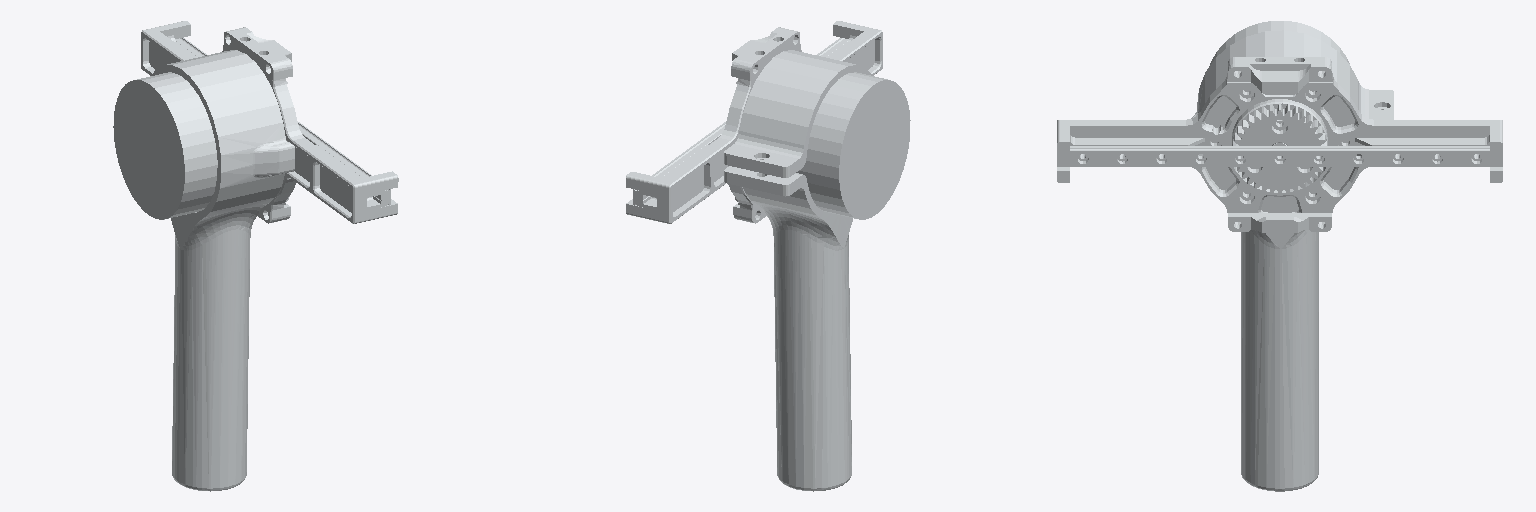
The robot description file, URDF, robot "y1_description":
<?xml version="1.0" encoding="utf-8"?>
<!-- This URDF was automatically created by SolidWorks to URDF Exporter! Originally created by [author] ([email redacted]) 
     Commit Version: 1.6.0-4-g7f85cfe  Build Version: 1.6.7995.38578
     For more information, please see http://wiki.ros.org/sw_urdf_exporter -->
<robot
  name="y1_description">
  <link name="world" />
  <joint name="fixed_base_joint" type="fixed">
      <parent link="world" />
      <child link="base_link" />
  </joint>
  <link
    name="base_link">
    <inertial>
      <origin
        xyz="-0.00594885814133117 1.74815920781197E-07 0.0348007672592276"
        rpy="0 0 0" />
      <mass
        value="0.710539568297307" />
      <inertia
        ixx="0.000443657464008301"
        ixy="6.25566859542462E-08"
        ixz="9.59870028750112E-07"
        iyy="0.000441077995533288"
        iyz="-9.9725911250569E-09"
        izz="0.000508211347165629" />
    </inertial>
    <visual>
      <origin
        xyz="0 0 0"
        rpy="0 0 0" />
      <geometry>
        <mesh
          filename="package://y1_description/meshes2/base_link.STL" />
      </geometry>
      <material
        name="">
        <color
          rgba="1 1 1 1" />
      </material>
    </visual>
    <collision>
      <origin
        xyz="0 0 0"
        rpy="0 0 0" />
      <geometry>
        <mesh
          filename="package://y1_description/meshes2/base_link.STL" />
      </geometry>
    </collision>
  </link>
  <link
    name="link1">
    <inertial>
      <origin
        xyz="0.000681166801672072 -0.000462329144553357 0.045774892481422"
        rpy="0 0 0" />
      <mass
        value="0.465086237348566" />
      <inertia
        ixx="0.000229226849289421"
        ixy="6.51443398285823E-09"
        ixz="4.13823216869872E-08"
        iyy="0.000349392243512686"
        iyz="4.09909327547663E-06"
        izz="0.000228246849171451" />
    </inertial>
    <visual>
      <origin
        xyz="0 0 0"
        rpy="0 0 0" />
      <geometry>
        <mesh
          filename="package://y1_description/meshes2/link1.STL" />
      </geometry>
      <material
        name="">
        <color
          rgba="0.898039215686275 0.917647058823529 0.929411764705882 1" />
      </material>
    </visual>
    <collision>
      <origin
        xyz="0 0 0"
        rpy="0 0 0" />
      <geometry>
        <mesh
          filename="package://y1_description/meshes2/link1.STL" />
      </geometry>
    </collision>
  </link>
  <joint
    name="joint1"
    type="revolute">
    <origin
      xyz="0 0 0.06675"
      rpy="0 0 0" />
    <parent
      link="base_link" />
    <child
      link="link1" />
    <axis
      xyz="0 0 1" />
    <limit
      lower="-2.79"
      upper="2.79"
      effort="30"
      velocity="5" />
  </joint>
  <link
    name="link2">
    <inertial>
      <origin
        xyz="-0.188833638735521 -0.00103696741234357 -0.000652233492404069"
        rpy="0 0 0" />
      <mass
        value="1.00848298285328" />
      <inertia
        ixx="0.000410794334923653"
        ixy="-8.40217264906029E-05"
        ixz="8.54409117485555E-06"
        iyy="0.00604170923770196"
        iyz="-2.44381206367219E-07"
        izz="0.00611040782192728" />
    </inertial>
    <visual>
      <origin
        xyz="0 0 0"
        rpy="0 0 0" />
      <geometry>
        <mesh
          filename="package://y1_description/meshes2/link2.STL" />
      </geometry>
      <material
        name="">
        <color
          rgba="0.898039215686275 0.917647058823529 0.929411764705882 1" />
      </material>
    </visual>
    <collision>
      <origin
        xyz="0 0 0"
        rpy="0 0 0" />
      <geometry>
        <mesh
          filename="package://y1_description/meshes2/link2.STL" />
      </geometry>
    </collision>
  </link>
  <joint
    name="joint2"
    type="revolute">
    <origin
      xyz="0.00075 0 0.055"
      rpy="1.5707963267949 0 0" />
    <parent
      link="link1" />
    <child
      link="link2" />
    <axis
      xyz="0 0 1" />
    <limit
      lower="-3.14"
      upper="0"
      effort="100"
      velocity="5" />
  </joint>
  <link
    name="link3">
    <inertial>
      <origin
        xyz="0.13303236944819 0.053001605443094 0.000290607418881382"
        rpy="0 0 0" />
      <mass
        value="0.839664048562432" />
      <inertia
        ixx="0.000602602150085638"
        ixy="0.000475019647951162"
        ixz="4.78547835289741E-06"
        iyy="0.00179992027506354"
        iyz="2.90178948383024E-06"
        izz="0.00208247690030194" />
    </inertial>
    <visual>
      <origin
        xyz="0 0 0"
        rpy="0 0 0" />
      <geometry>
        <mesh
          filename="package://y1_description/meshes2/link3.STL" />
      </geometry>
      <material
        name="">
        <color
          rgba="0.898039215686275 0.917647058823529 0.929411764705882 1" />
      </material>
    </visual>
    <collision>
      <origin
        xyz="0 0 0"
        rpy="0 0 0" />
      <geometry>
        <mesh
          filename="package://y1_description/meshes2/link3.STL" />
      </geometry>
    </collision>
  </link>
  <joint
    name="joint3"
    type="revolute">
    <origin
      xyz="-0.28 0 0"
      rpy="0 0 0" />
    <parent
      link="link2" />
    <child
      link="link3" />
    <axis
      xyz="0 0 1" />
    <limit
      lower="0"
      upper="3.14"
      effort="30"
      velocity="5" />
  </joint>
  <link
    name="link4">
    <inertial>
      <origin
        xyz="0.0676553454608046 0.0601804606336394 0.00493164046961679"
        rpy="0 0 0" />
      <mass
        value="0.455192807281481" />
      <inertia
        ixx="0.000175905701610462"
        ixy="2.09881793084199E-05"
        ixz="-5.70112881813548E-06"
        iyy="0.00021185619989683"
        iyz="-5.28404240592637E-06"
        izz="0.000207766320080551" />
    </inertial>
    <visual>
      <origin
        xyz="0 0 0"
        rpy="0 0 0" />
      <geometry>
        <mesh
          filename="package://y1_description/meshes2/link4.STL" />
      </geometry>
      <material
        name="">
        <color
          rgba="0.898039215686275 0.917647058823529 0.929411764705882 1" />
      </material>
    </visual>
    <collision>
      <origin
        xyz="0 0 0"
        rpy="0 0 0" />
      <geometry>
        <mesh
          filename="package://y1_description/meshes2/link4.STL" />
      </geometry>
    </collision>
  </link>
  <joint
    name="joint4"
    type="revolute">
    <origin
      xyz="0.215000000191949 0.062999999344955 0"
      rpy="0 0 0" />
    <parent
      link="link3" />
    <child
      link="link4" />
    <axis
      xyz="0 0 1" />
    <limit
      lower="-2.145"
      upper="1.413"
      effort="10"
      velocity="20" />
  </joint>
  <link
    name="link5">
    <inertial>
      <origin
        xyz="0.00184718198779937 1.71555473194154E-05 0.0401130289643779"
        rpy="0 0 0" />
      <mass
        value="0.37350857138172" />
      <inertia
        ixx="0.000164420724368751"
        ixy="9.01113714088931E-08"
        ixz="8.61462336637628E-06"
        iyy="0.000150227049138266"
        iyz="7.29000317164614E-07"
        izz="0.000141162755688236" />
    </inertial>
    <visual>
      <origin
        xyz="0 0 0"
        rpy="0 0 0" />
      <geometry>
        <mesh
          filename="package://y1_description/meshes2/link5.STL" />
      </geometry>
      <material
        name="">
        <color
          rgba="0.898039215686275 0.917647058823529 0.929411764705882 1" />
      </material>
    </visual>
    <collision>
      <origin
        xyz="0 0 0"
        rpy="0 0 0" />
      <geometry>
        <mesh
          filename="package://y1_description/meshes2/link5.STL" />
      </geometry>
    </collision>
  </link>
  <joint
    name="joint5"
    type="revolute">
    <origin
      xyz="0.0808173961212753 0.0507202965702747 0.000249997832943334"
      rpy="1.5707963267949 0 0" />
    <parent
      link="link4" />
    <child
      link="link5" />
    <axis
      xyz="0 0 1" />
    <limit
      lower="-1.482"
      upper="1.482"
      effort="10"
      velocity="20" />
  </joint>
  <link
    name="link6">
    <inertial>
      <origin
        xyz="-7.49599778135379E-06 -0.00013005136298912 0.0107241456109823"
        rpy="0 0 0" />
      <mass
        value="0.0710864913917462" />
      <inertia
        ixx="1.6401347920533E-05"
        ixy="-1.49553772726508E-07"
        ixz="2.14734308108841E-07"
        iyy="1.63719812629545E-05"
        iyz="1.0859635466048E-08"
        izz="3.09205907254189E-05" />
    </inertial>
    <visual>
      <origin
        xyz="0 0 0"
        rpy="0 0 0" />
      <geometry>
        <mesh
          filename="package://y1_description/meshes2/link6.STL" />
      </geometry>
      <material
        name="">
        <color
          rgba="0.898039215686275 0.917647058823529 0.929411764705882 1" />
      </material>
    </visual>
    <collision>
      <origin
        xyz="0 0 0"
        rpy="0 0 0" />
      <geometry>
        <mesh
          filename="package://y1_description/meshes2/link6.STL" />
      </geometry>
    </collision>
  </link>
  <joint
    name="joint6"
    type="revolute">
    <origin
      xyz="0.0227968089529965 0 0.0443684065693784"
      rpy="0 1.5707963267949 0" />
    <parent
      link="link5" />
    <child
      link="link6" />
    <axis
      xyz="0 0 1" />
    <limit
      lower="-2.529"
      upper="2.529"
      effort="10"
      velocity="20" />
  </joint>
  <link
    name="gripper_base">
    <inertial>
      <origin
        xyz="1.8116022072745E-07 -6.59899547614519E-06 -0.0236534167124916"
        rpy="0 0 0" />
      <mass
        value="0.472677133888304" />
      <inertia
        ixx="0.000352068319247928"
        ixy="-2.46417635975675E-08"
        ixz="-1.78183230772186E-10"
        iyy="0.000135507470952368"
        iyz="1.36393205161364E-08"
        izz="0.000378993699632994" />
    </inertial>
    <visual>
      <origin
        xyz="0 0 0"
        rpy="0 0 0" />
      <geometry>
        <mesh
          filename="package://y1_description/meshes2/gripper_base.STL" />
      </geometry>
      <material
        name="">
        <color
          rgba="0.898039215686275 0.917647058823529 0.929411764705882 1" />
      </material>
    </visual>
    <collision>
      <origin
        xyz="0 0 0"
        rpy="0 0 0" />
      <geometry>
        <mesh
          filename="package://y1_description/meshes2/gripper_base.STL" />
      </geometry>
    </collision>
  </link>
  <joint
    name="gripper_base"
    type="fixed">
    <origin
      xyz="-0.00120627967358662 0 0.0757904010332325"
      rpy="0 -0.015914651654156 0" />
    <parent
      link="link6" />
    <child
      link="gripper_base" />
    <axis
      xyz="0 0 0" />
  </joint>
  <link
    name="link7">
    <inertial>
      <origin
        xyz="0.0136358557633384 -0.0101974363145318 0.0643753957399442"
        rpy="0 0 0" />
      <mass
        value="0.0941874462283945" />
      <inertia
        ixx="3.59554789171064E-05"
        ixy="-2.91912170987263E-07"
        ixz="4.58349488759558E-06"
        iyy="5.42304422063263E-05"
        iyz="-1.03838463761627E-07"
        izz="3.56193231141655E-05" />
    </inertial>
    <visual>
      <origin
        xyz="0 0 0"
        rpy="0 0 0" />
      <geometry>
        <mesh
          filename="package://y1_description/meshes2/link7.STL" />
      </geometry>
      <material
        name="">
        <color
          rgba="0.529411764705882 0.549019607843137 0.549019607843137 1" />
      </material>
    </visual>
    <collision>
      <origin
        xyz="0 0 0"
        rpy="0 0 0" />
      <geometry>
        <mesh
          filename="package://y1_description/meshes2/link7.STL" />
      </geometry>
    </collision>
  </link>
  <joint
    name="joint7"
    type="prismatic">
    <origin
      xyz="0 -0.072000000000001 0"
      rpy="-1.5707963267949 -1.55488167514075 0" />
    <parent
      link="gripper_base" />
    <child
      link="link7" />
    <axis
      xyz="0 0 -1" />
    <limit
      lower="0"
      upper="0.04"
      effort="10"
      velocity="20" />
  </joint>
  <link
    name="link8">
    <inertial>
      <origin
        xyz="0.0139530239502495 0.00976135676822211 -0.0643753952596965"
        rpy="0 0 0" />
      <mass
        value="0.0941874502574237" />
      <inertia
        ixx="3.59554275157291E-05"
        ixy="-2.90303096877524E-07"
        ixz="-4.58447764624841E-06"
        iyy="5.42304962234321E-05"
        iyz="4.20784875227686E-08"
        izz="3.56193259784968E-05" />
    </inertial>
    <visual>
      <origin
        xyz="0 0 0"
        rpy="0 0 0" />
      <geometry>
        <mesh
          filename="package://y1_description/meshes2/link8.STL" />
      </geometry>
      <material
        name="">
        <color
          rgba="0.529411764705882 0.549019607843137 0.549019607843137 1" />
      </material>
    </visual>
    <collision>
      <origin
        xyz="0 0 0"
        rpy="0 0 0" />
      <geometry>
        <mesh
          filename="package://y1_description/meshes2/link8.STL" />
      </geometry>
    </collision>
  </link>
  <joint
    name="joint8"
    type="prismatic">
    <origin
      xyz="0 0.072 0"
      rpy="-1.5708 -1.5549 0" />
    <parent
      link="gripper_base" />
    <child
      link="link8" />
    <axis
      xyz="0 0 1" />
    <mimic joint="joint7" multiplier="1.0" offset="0.0"/>
    <limit
      lower="0"
      upper="0.04"
      effort="10"
      velocity="20" />
  </joint>
</robot>

--- What the picture shows (computed from the rendered views, not written in the file) ---
The picture shows the robot from 3 angles, left to right: view 1: azimuth 30°, elevation 25°; view 2: azimuth 150°, elevation 25°; view 3: azimuth 270°, elevation 25°; orthographic projection.
Model y1_description with 11 links and 10 joints (6 revolute, 2 prismatic, 2 fixed), rooted at world, posed every joint at zero.
Visible links, largest first — view 1: gripper_base; view 2: gripper_base; view 3: gripper_base.
Link boxes in pixels (box(x1,y1,x2,y2)): gripper_base: box(113, 21, 398, 491); gripper_base: box(626, 21, 910, 491); gripper_base: box(1057, 21, 1502, 491).
Size in the robot's own frame: 0.0661 by 0.17 by 0.1849 metres.
Meshes: 10 distinct files referenced, 1 mesh visuals loaded (1 binary STL); not drawn: 9 (reference not matched to a file when rendering).